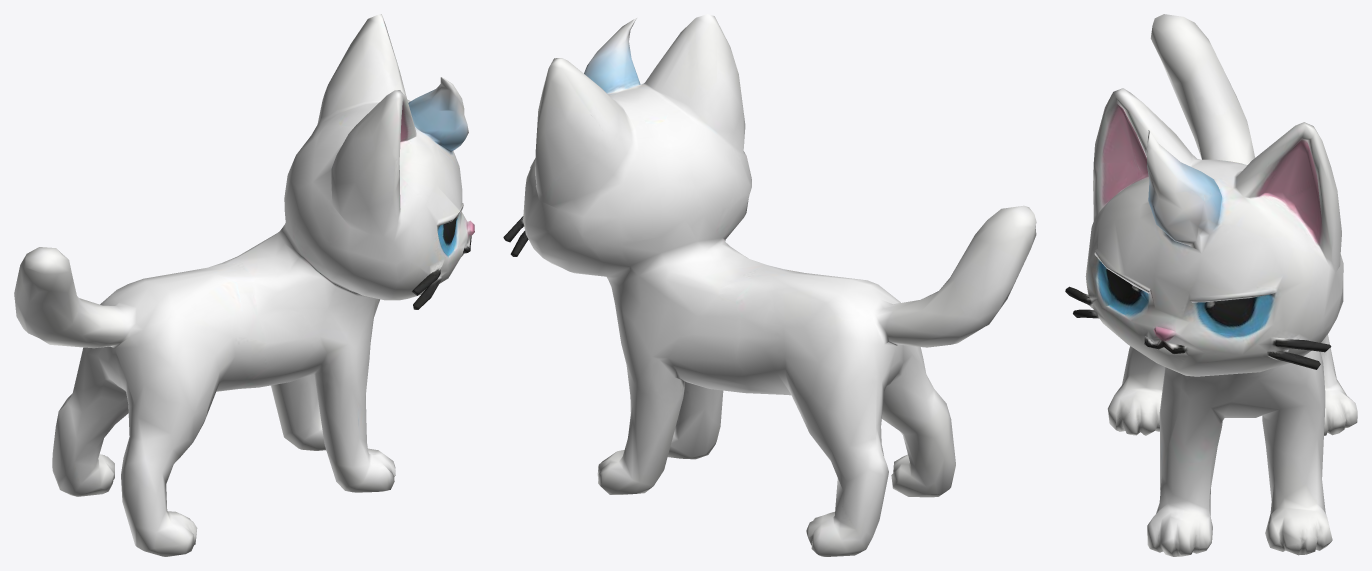
Rendered from cat-in-a-dogs-world-lo.glb.
3 views of the same model, side by side, from view 1: azimuth 30°, elevation 25°; view 2: azimuth 150°, elevation 25°; view 3: azimuth 270°, elevation 25° (orthographic). The views are drawn at different scales.
Parts seen in each view (by area): view 1: tripo_node_b2468874-d7e3-4a1c-a0d0-85fff3c9fa11; view 2: tripo_node_b2468874-d7e3-4a1c-a0d0-85fff3c9fa11; view 3: tripo_node_b2468874-d7e3-4a1c-a0d0-85fff3c9fa11.
Part boxes in pixels (bbox=[...]): tripo_node_b2468874-d7e3-4a1c-a0d0-85fff3c9fa11: bbox=[14, 14, 474, 556]; tripo_node_b2468874-d7e3-4a1c-a0d0-85fff3c9fa11: bbox=[503, 14, 1036, 556]; tripo_node_b2468874-d7e3-4a1c-a0d0-85fff3c9fa11: bbox=[1065, 14, 1357, 556].
Bounding box in the file's own units: 1.15 × 0.9986 × 0.5726.
Materials: 1 (1 with a texture image).
